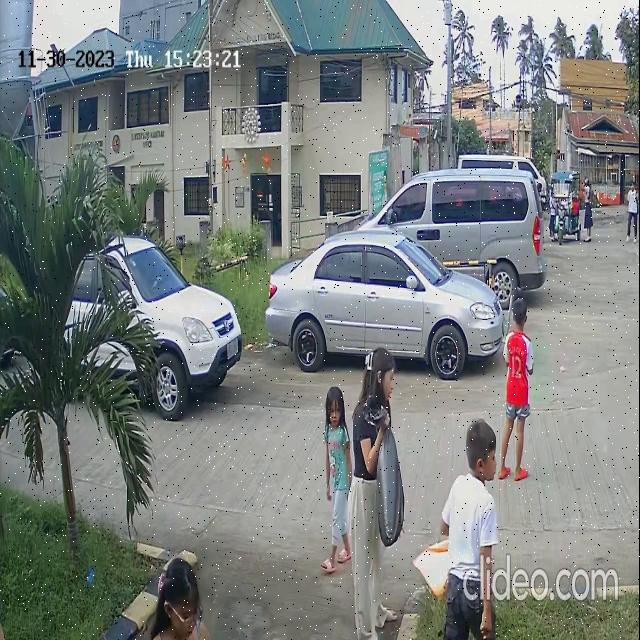garbage_dumping: (368, 413, 414, 528)
